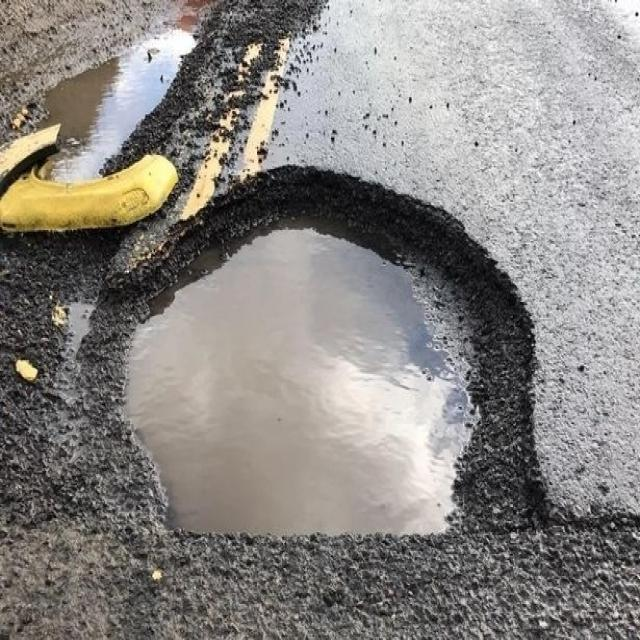road-pothole: (77, 161, 554, 545), (17, 19, 213, 176)
